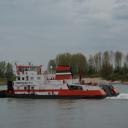tugboat: (6, 61, 122, 103)
